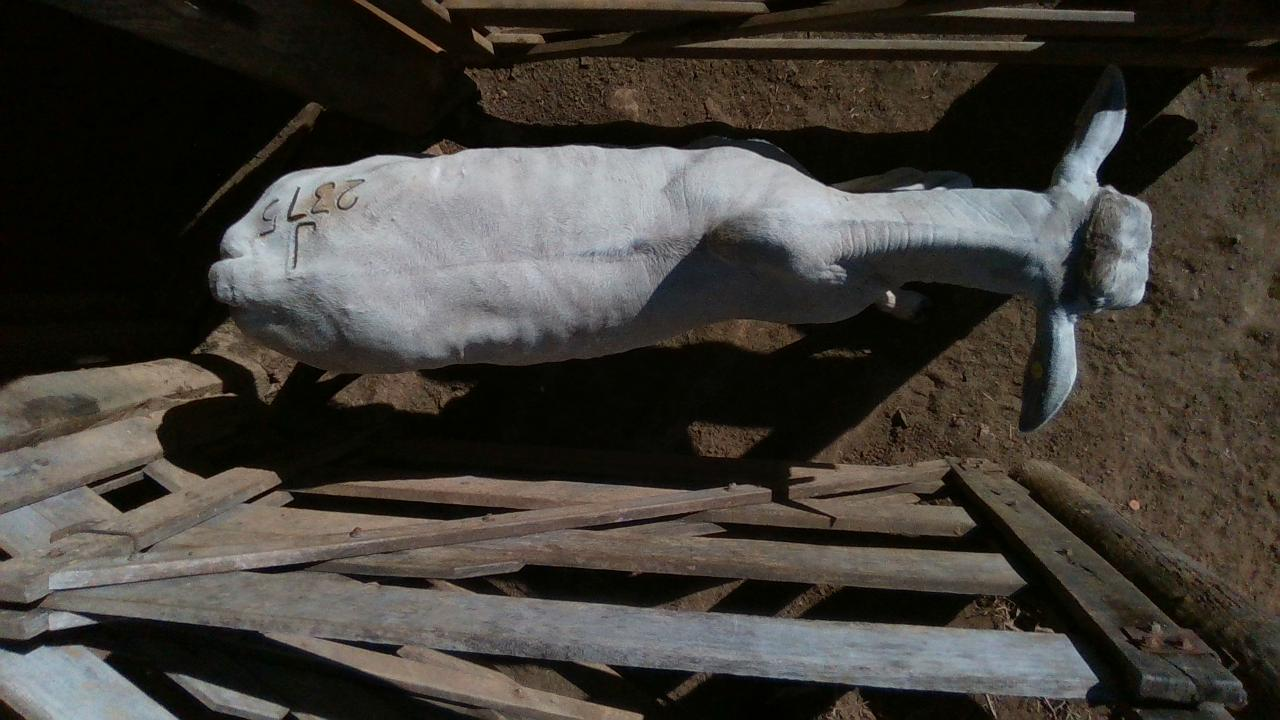cattle: (206, 64, 1153, 433)
